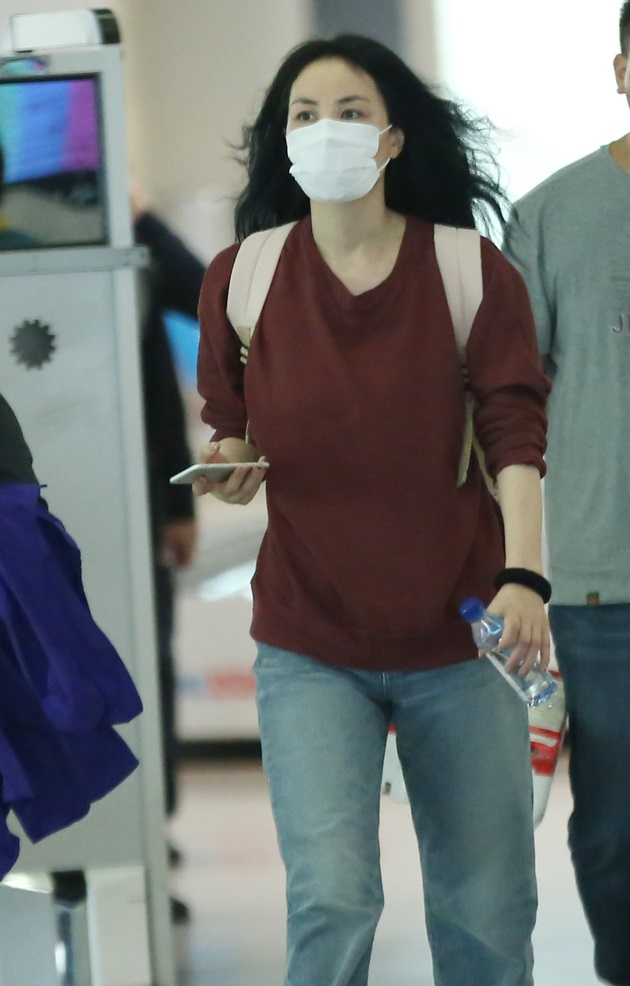face_mask: (286, 52, 387, 211)
